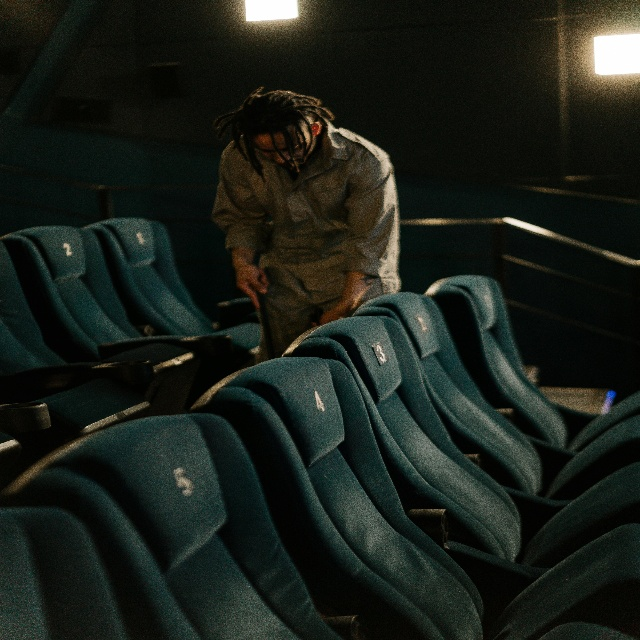Sin_guantes: (235, 261, 268, 309)
